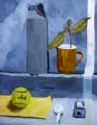tennis ball: (10, 86, 32, 108)
